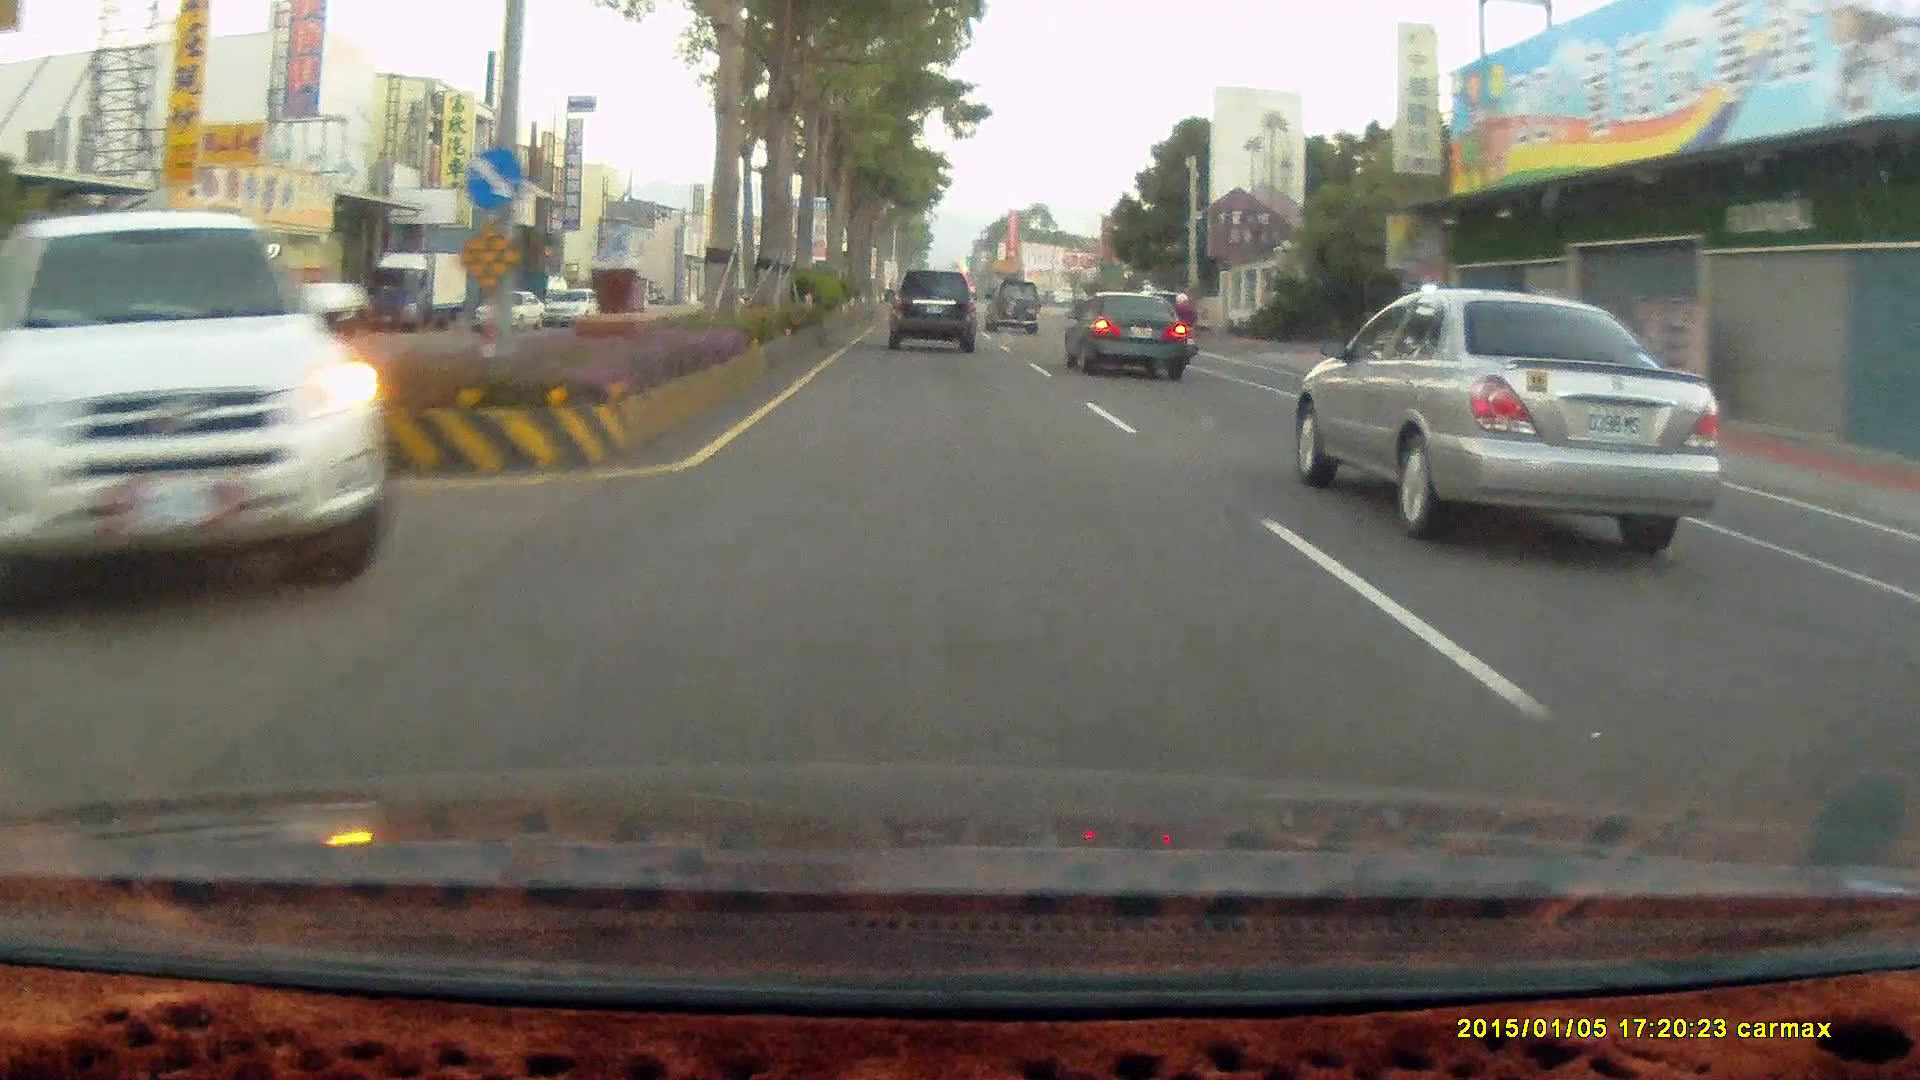rider: (1158, 290, 1202, 366)
vehicle: (0, 209, 384, 611), (19, 209, 374, 604), (1296, 291, 1719, 549), (1061, 292, 1188, 383), (1068, 300, 1197, 386), (55, 290, 179, 379), (885, 267, 982, 356), (370, 249, 469, 331), (373, 252, 470, 334), (888, 270, 977, 354), (984, 283, 1041, 340), (984, 277, 1040, 334), (476, 298, 547, 343), (476, 287, 546, 332)
